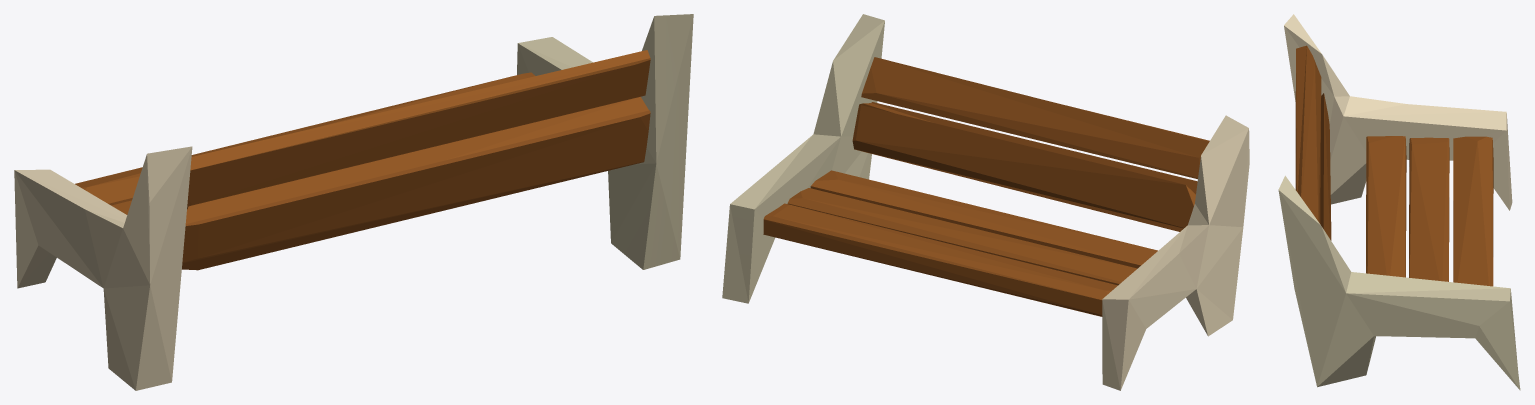
File: bench_01.fbx
3 views of the same model, side by side, from view 1: azimuth 30°, elevation 25°; view 2: azimuth 150°, elevation 25°; view 3: azimuth 270°, elevation 25° (orthographic). The views are drawn at different scales.
Visible parts, largest first — view 1: Cube.004, Plane.002, Plane.001; view 2: Cube.004, Plane.002, Plane.001; view 3: Cube.004, Plane.001, Plane.002.
Part boxes in pixels (<box>): Cube.004: <box>75,50,650,270</box>; Plane.002: <box>14,146,192,390</box>; Plane.001: <box>517,14,693,269</box>; Cube.004: <box>763,57,1209,316</box>; Plane.002: <box>1102,115,1249,390</box>; Plane.001: <box>722,14,884,303</box>; Cube.004: <box>1295,45,1493,286</box>; Plane.001: <box>1278,175,1520,390</box>; Plane.002: <box>1284,14,1512,210</box>.
Bounding box in the file's own units: 105 × 48.6 × 54.58.
